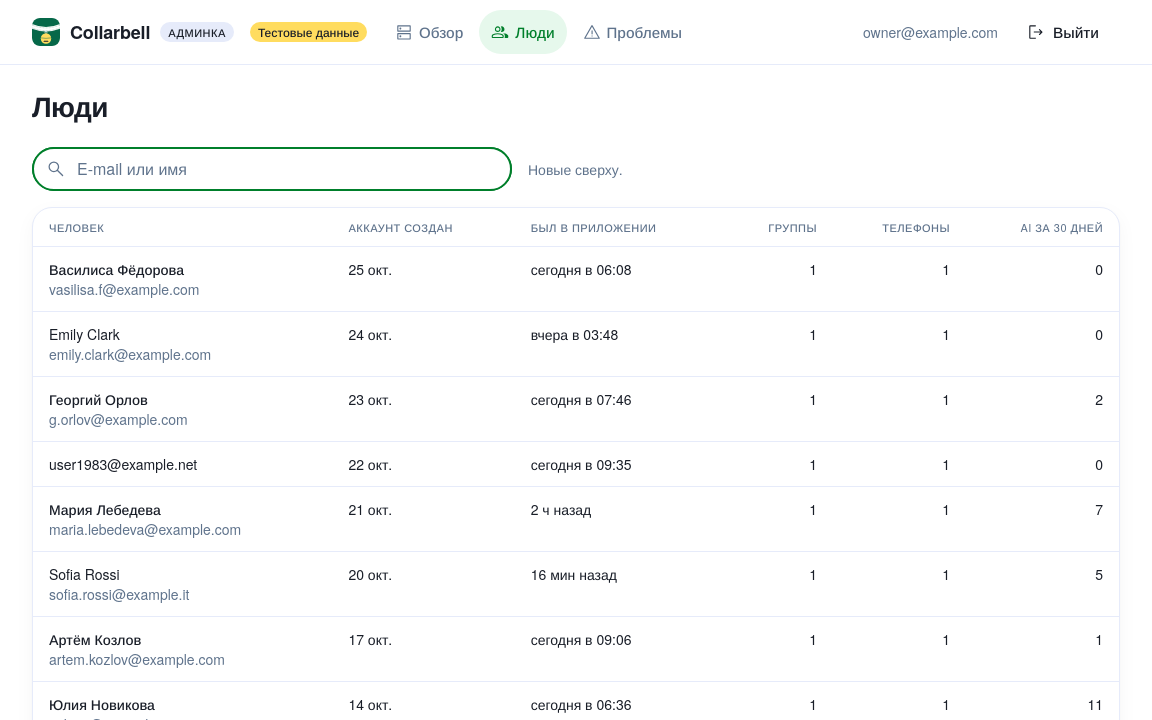
Test case: signing in › signs out from the header
Check: the text "Новые сверху." is shown, box x1=528 y1=158 x2=623 y2=180
Click the button "Выйти" at (1063, 32), box x1=1006 y1=10 x2=1120 y2=54
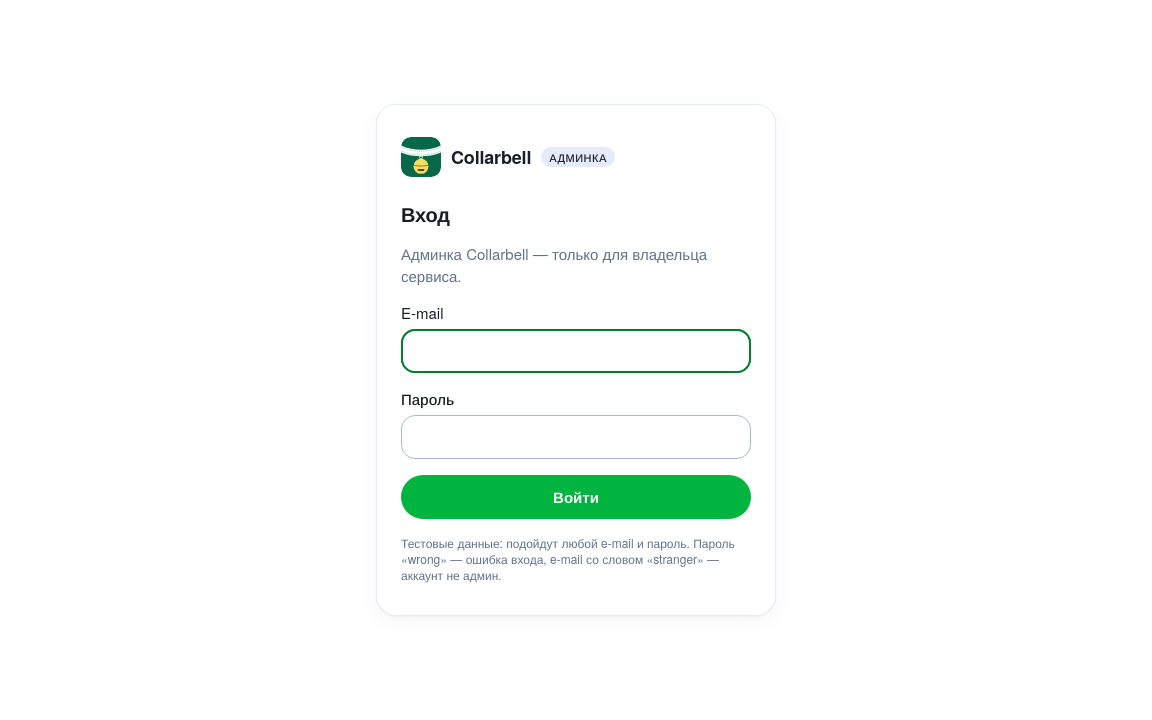
Check: the heading "Вход" is shown, box x1=401 y1=199 x2=450 y2=228
